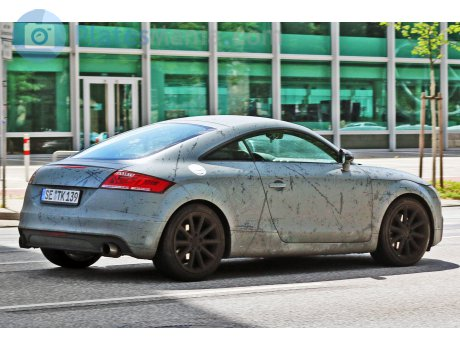License Plates: (45, 188, 74, 194)
